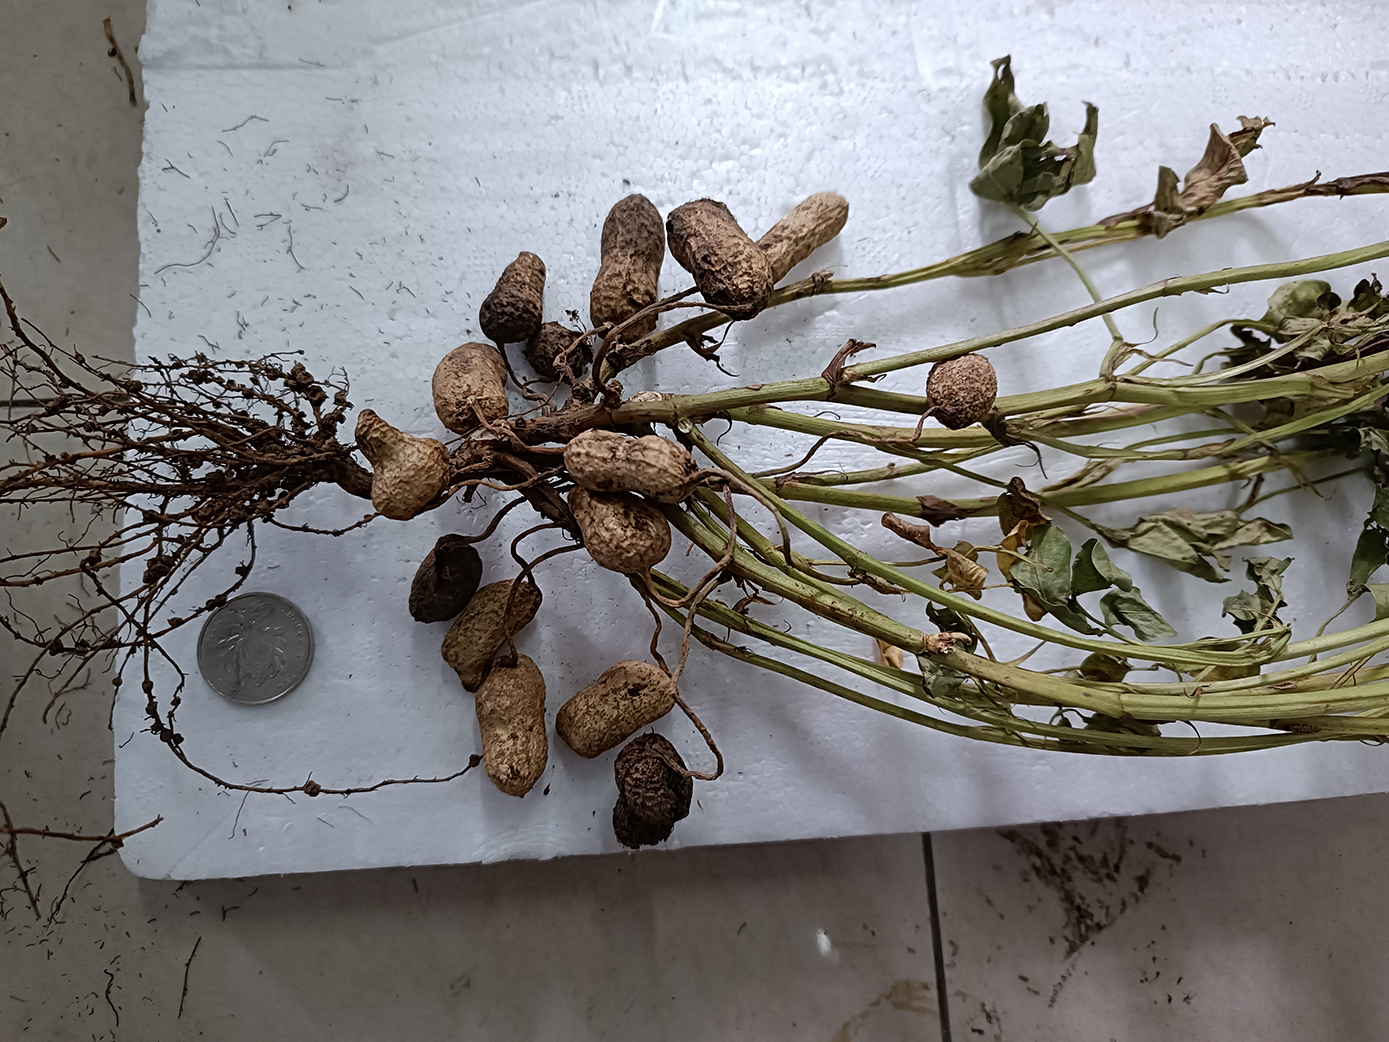h: (554, 659, 679, 759), (352, 407, 448, 520), (476, 651, 549, 797), (443, 580, 541, 690), (565, 428, 695, 505), (567, 478, 669, 576), (757, 192, 848, 282), (430, 341, 507, 430), (925, 351, 998, 431)
l: (665, 197, 771, 319), (589, 192, 665, 335), (613, 736, 692, 849), (477, 251, 545, 349), (409, 540, 483, 625), (523, 321, 589, 382)
